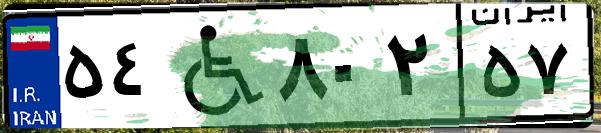0: (330, 28, 385, 110)
2: (385, 28, 445, 110)
4: (110, 28, 158, 98)
5: (57, 26, 110, 100), (475, 38, 525, 113)
7: (525, 38, 570, 115)
8: (270, 28, 330, 110)
ژ (معلولین و جانبازان): (158, 12, 270, 120)
